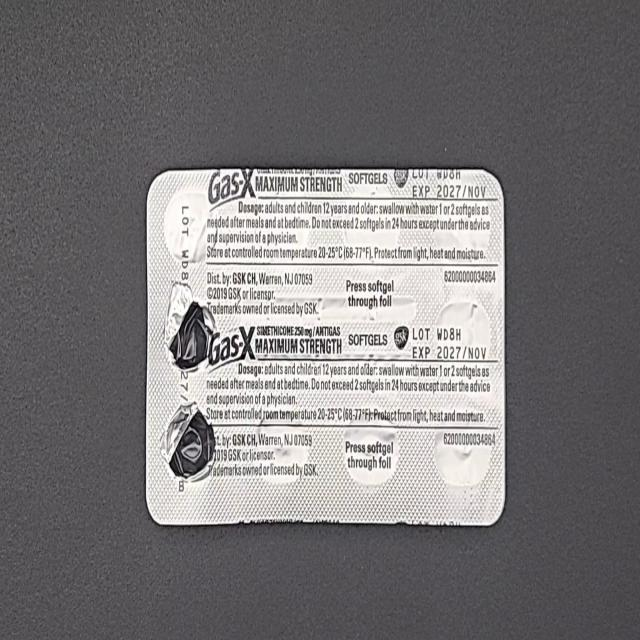defect: (162, 278, 218, 376), (156, 398, 218, 485)
